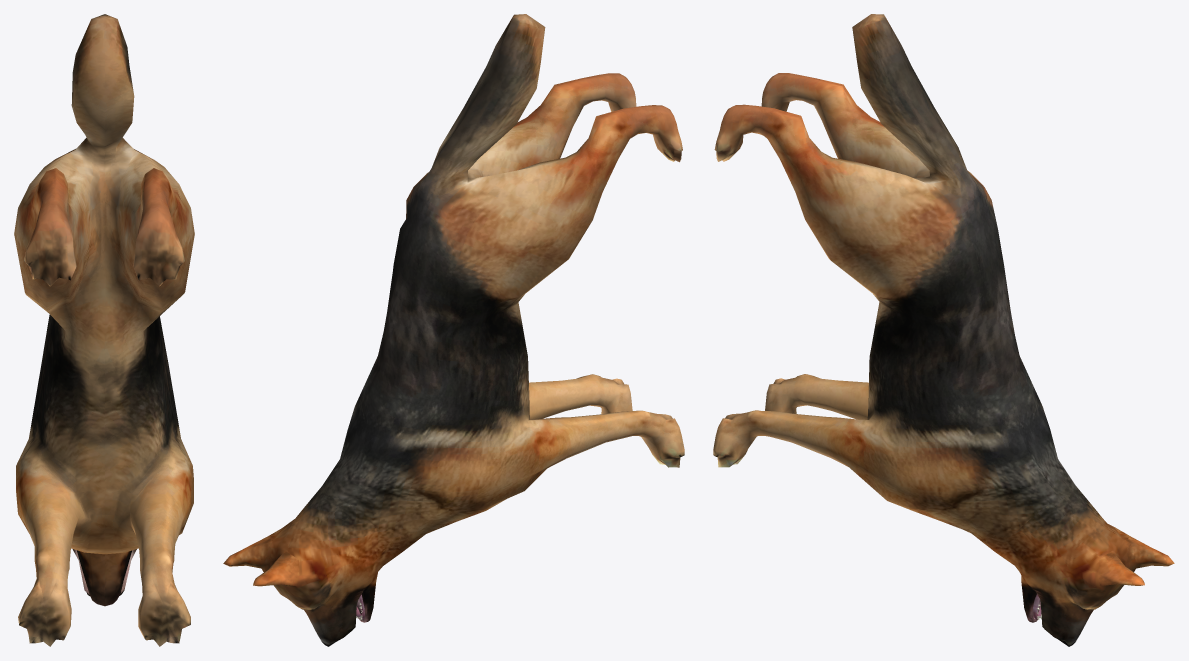
File: GermanShepherd.fbx
3 views of the same model, side by side, from view 1: azimuth 30°, elevation 25°; view 2: azimuth 150°, elevation 25°; view 3: azimuth 270°, elevation 25° (orthographic). The views are drawn at different scales.
Visible parts, largest first — view 1: polySurface2; view 2: polySurface2; view 3: polySurface2.
Boxes of the visible parts, box(x1,y1,x2,y2) form: polySurface2: box(14, 14, 194, 646); polySurface2: box(223, 14, 684, 646); polySurface2: box(713, 14, 1174, 646).
Size of the model in its own units: 48.74 by 96.1 by 69.05.
